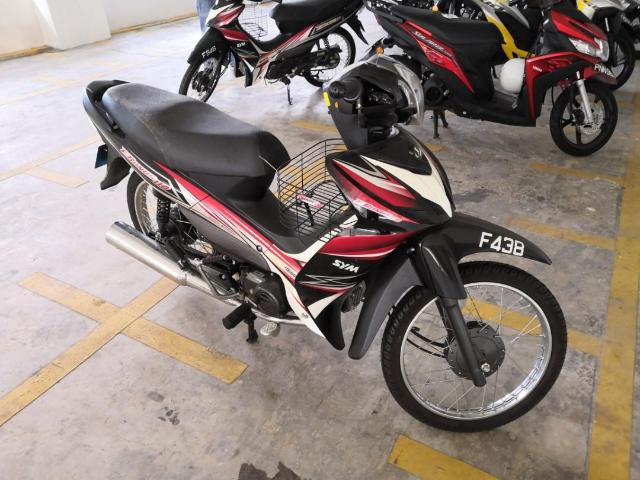License_Plate: (463, 222, 534, 263), (197, 43, 222, 63), (594, 62, 618, 81)
motorcycle: (83, 69, 570, 433), (360, 1, 620, 157), (178, 1, 370, 105)
